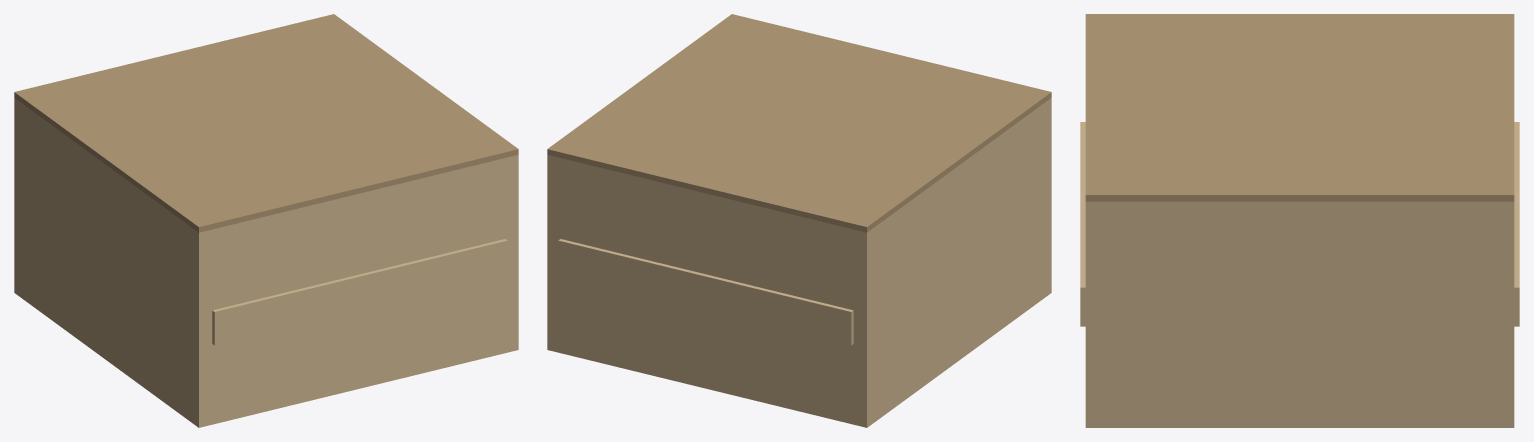
File: skrzynia.glb
3 views of the same model, side by side, from view 1: azimuth 30°, elevation 25°; view 2: azimuth 150°, elevation 25°; view 3: azimuth 270°, elevation 25° (orthographic). The views are drawn at different scales.
Parts seen in each view (by area): view 1: skrzynia, walkable_top; view 2: skrzynia, walkable_top; view 3: skrzynia, walkable_top.
Boxes of the visible parts, <box> form: skrzynia: <box>14,98,518,427</box>; walkable_top: <box>14,14,518,232</box>; skrzynia: <box>547,98,1051,427</box>; walkable_top: <box>547,14,1051,232</box>; skrzynia: <box>1080,122,1519,427</box>; walkable_top: <box>1085,14,1514,201</box>.
Size of the model in its own units: 1.2 by 0.72 by 1.23.
